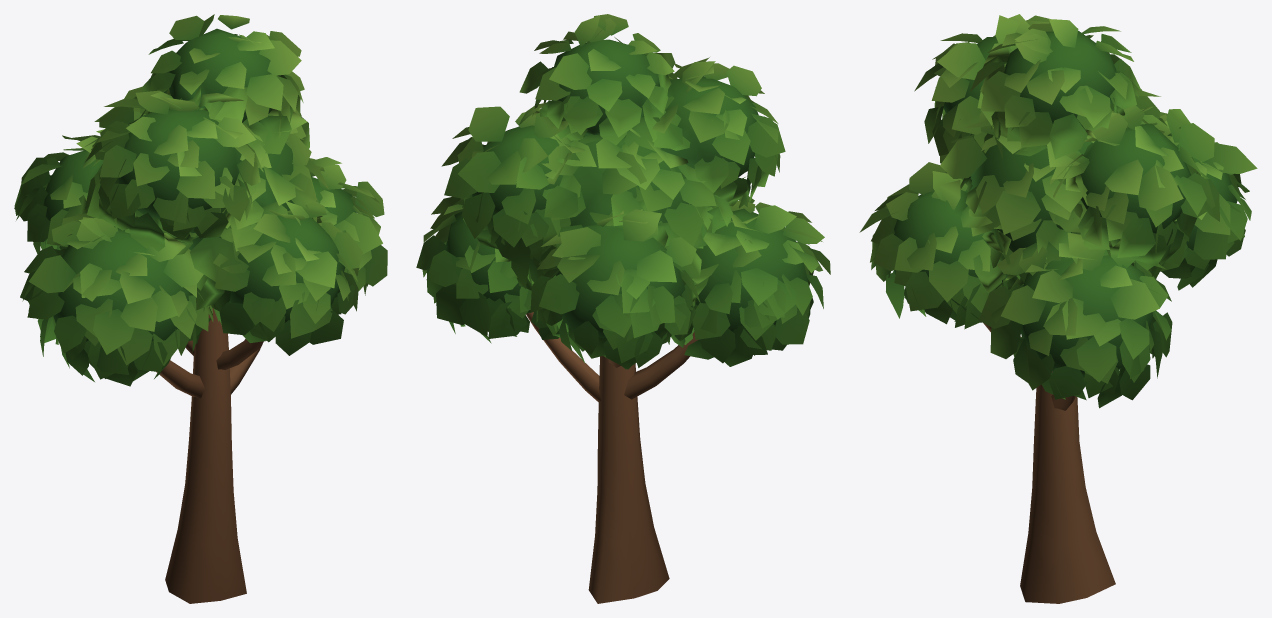
Rendered from tree_common_a.glb.
3 views of the same model, side by side, from view 1: azimuth 30°, elevation 25°; view 2: azimuth 150°, elevation 25°; view 3: azimuth 270°, elevation 25° (orthographic). The views are drawn at different scales.
Parts seen in each view (by area): view 1: tree_common_a; view 2: tree_common_a; view 3: tree_common_a.
Boxes of the visible parts, x1=… form: tree_common_a: x1=14, y1=14, x2=387, y2=603; tree_common_a: x1=416, y1=14, x2=830, y2=603; tree_common_a: x1=859, y1=14, x2=1257, y2=603.
Bounding box in the file's own units: 2.57 × 3.77 × 2.33.
